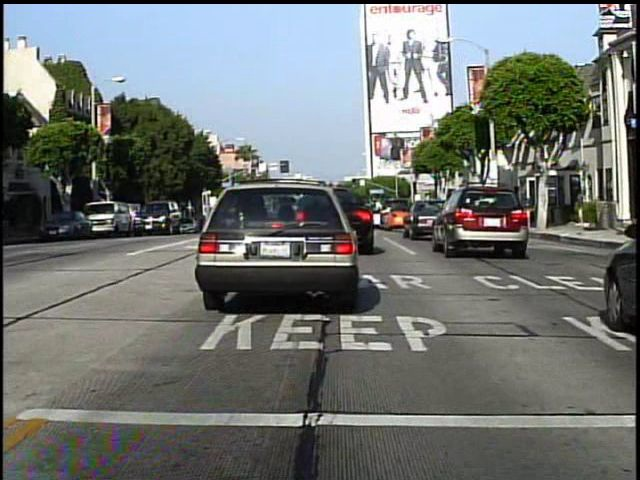person: (127, 203, 141, 238)
